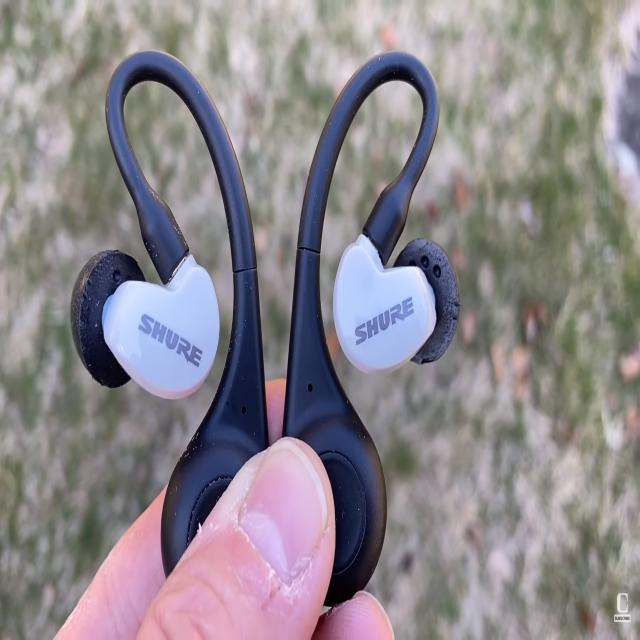airpods: (71, 48, 459, 613)
